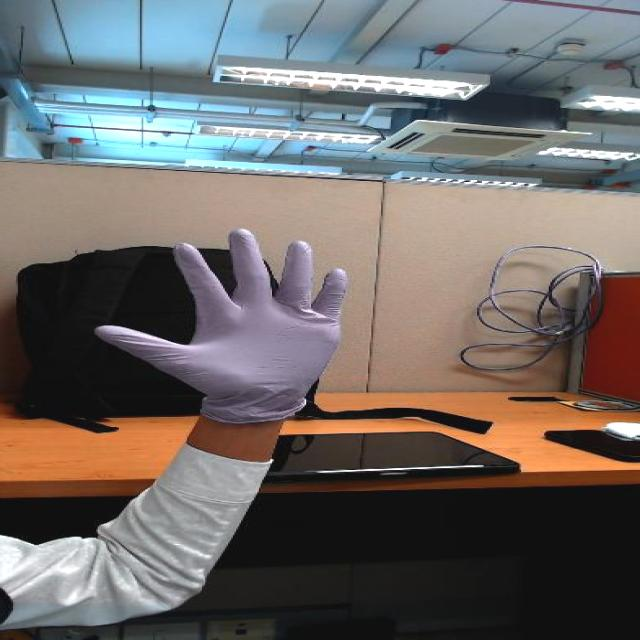glove: (75, 214, 401, 406)
